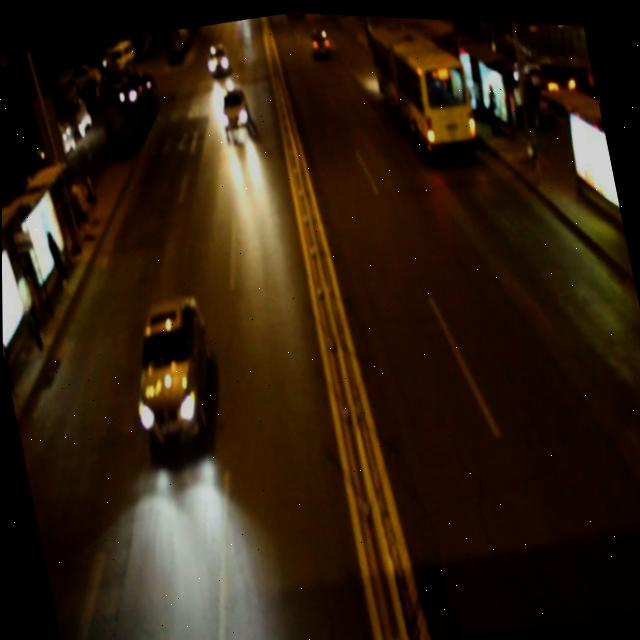car: (117, 289, 226, 452), (214, 80, 253, 134)
van: (365, 13, 475, 159)
